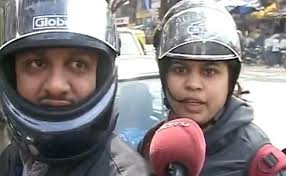com_capacete: (1, 1, 124, 164), (151, 1, 245, 118)
